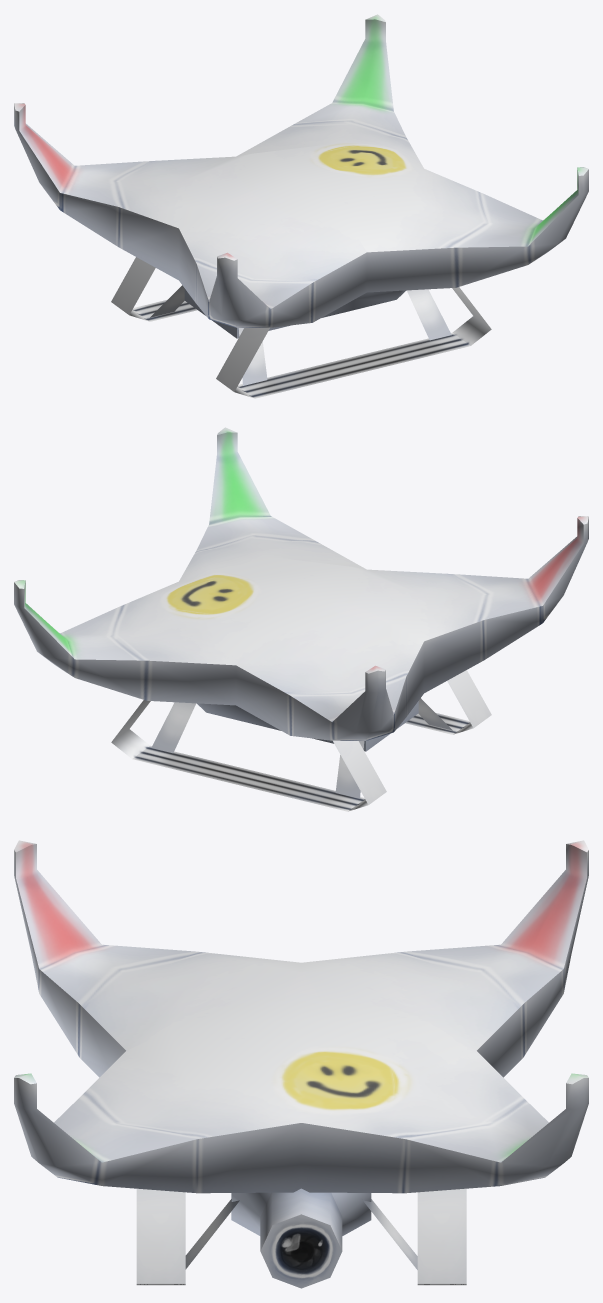
The model's file is DRONE.fbx.
The picture shows the model from 3 angles, top to bottom: view 1: azimuth 30°, elevation 25°; view 2: azimuth 150°, elevation 25°; view 3: azimuth 270°, elevation 25°; orthographic projection. The views are drawn at different scales.
Visible parts, largest first — view 1: drone_body, drone_l_leg2, drone_l_leg3, drone_leg_support, drone_camera, drone_leg_support1; view 2: drone_body, drone_l_leg2, drone_l_leg3, drone_leg_support, drone_camera, drone_leg_support1; view 3: drone_body, drone_l_leg2, drone_camera, drone_l_leg3, drone_leg_support.
Part boxes in pixels (x1,y1,x2,y2): drone_body: (14,14,588,327); drone_l_leg2: (111,257,491,398); drone_l_leg3: (114,258,489,397); drone_leg_support: (150,285,451,385); drone_camera: (184,288,406,338); drone_leg_support1: (155,286,450,384); drone_body: (14,427,588,740); drone_l_leg2: (111,670,491,811); drone_l_leg3: (112,671,490,811); drone_leg_support: (151,699,452,798); drone_camera: (197,701,418,751); drone_leg_support1: (152,698,447,796); drone_body: (14,840,588,1193); drone_l_leg2: (136,1188,466,1285); drone_camera: (231,1188,371,1288); drone_l_leg3: (136,1189,466,1285); drone_leg_support: (185,1199,417,1269).
Size of the model in its own units: 4.16 by 2.06 by 4.19.
